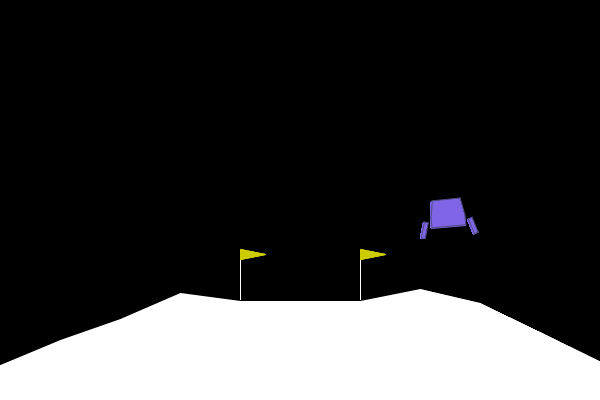lander: (416, 195, 479, 240)
